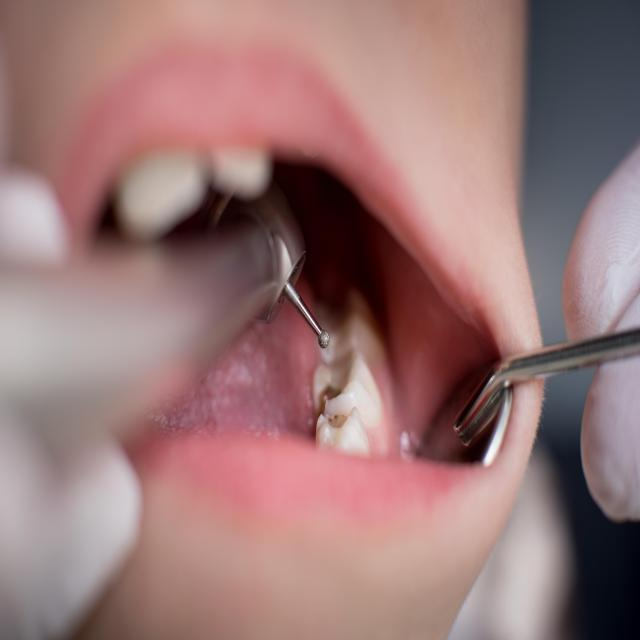Cavity: (313, 353, 355, 417)
Tooth: (313, 346, 385, 427)
